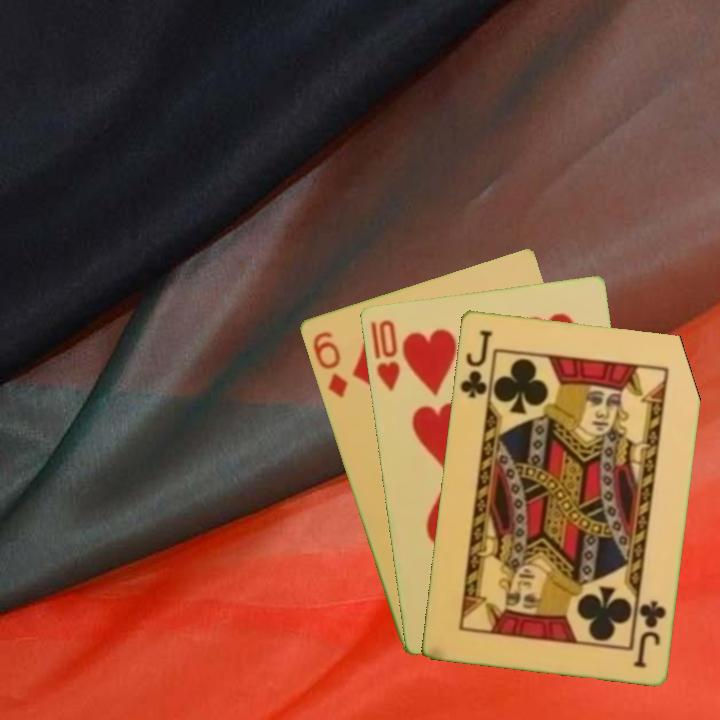10h: (366, 316, 403, 394)
6d: (308, 327, 350, 400)
Jc: (456, 326, 495, 401), (629, 596, 668, 671)
